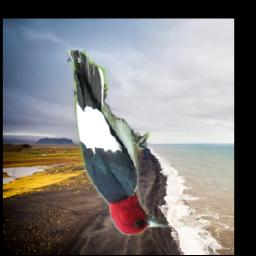Woodpecker: (67, 51, 170, 237)
